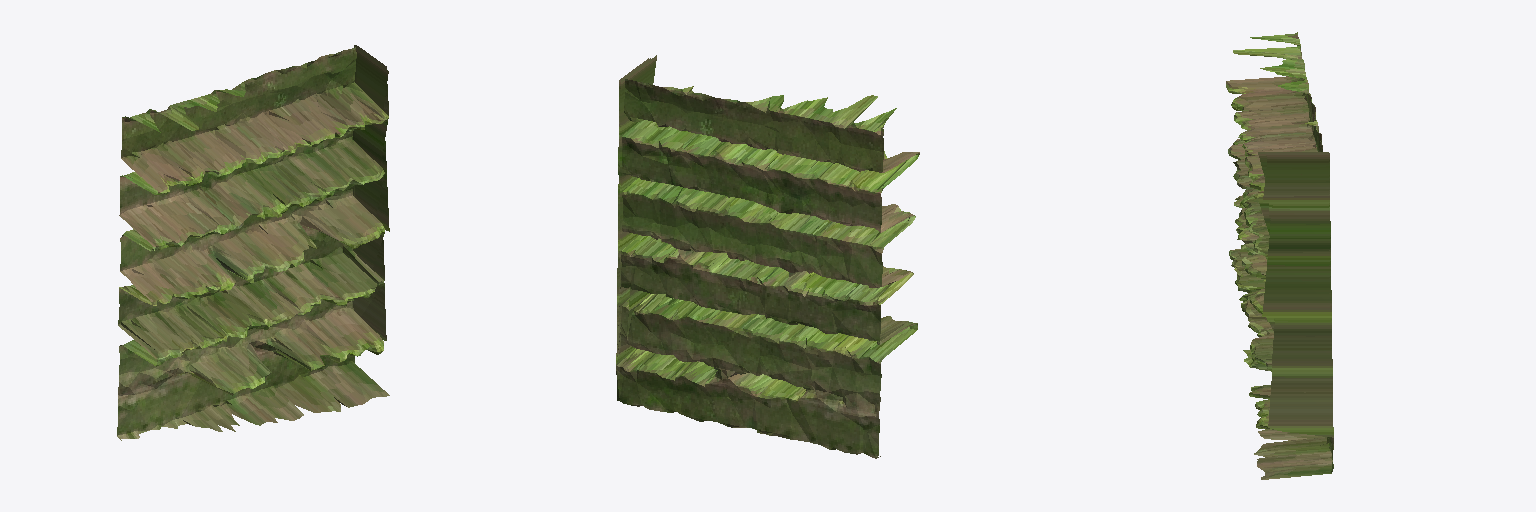
3 views of the same model, side by side, from view 1: azimuth 30°, elevation 25°; view 2: azimuth 150°, elevation 25°; view 3: azimuth 270°, elevation 25° (orthographic).
Parts seen in each view (by area): view 1: grp1; view 2: grp1; view 3: grp1.
Boxes of the visible parts, x1=… form: grp1: x1=117, y1=45, x2=389, y2=440; grp1: x1=616, y1=55, x2=919, y2=458; grp1: x1=1226, y1=32, x2=1333, y2=479.
Size of the model in its own units: 8 by 10 by 2.99.
Materials: 1 (1 with a texture image).